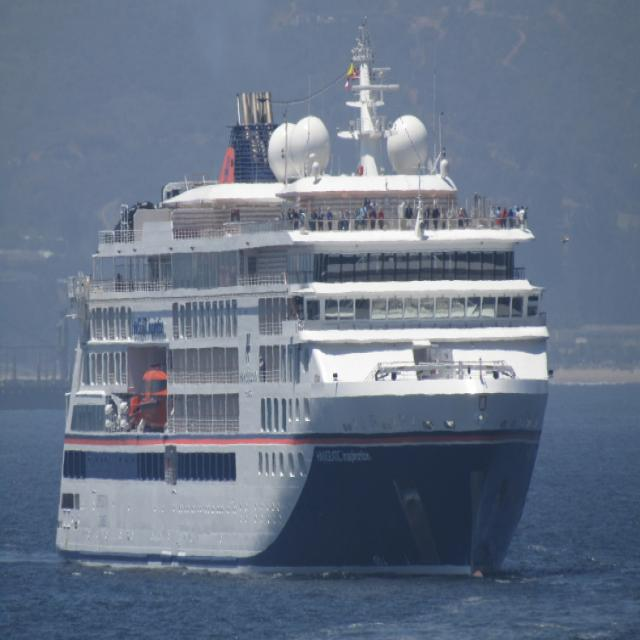cruises: (46, 24, 557, 581)
